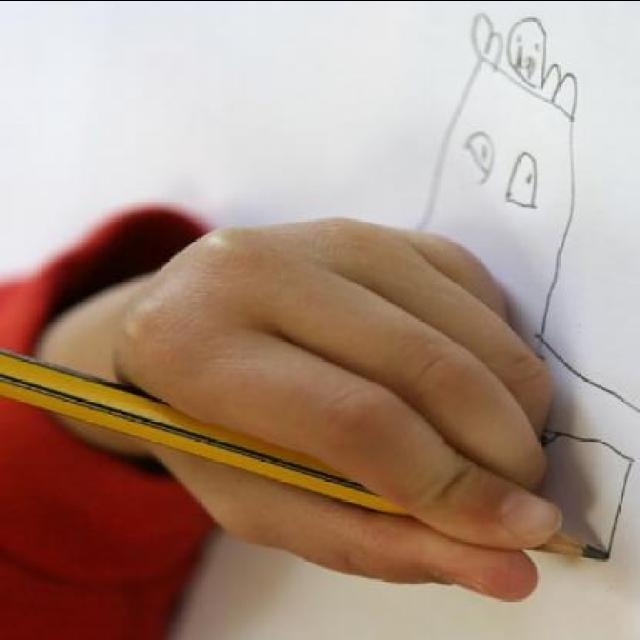pencil: (516, 515, 612, 577)
